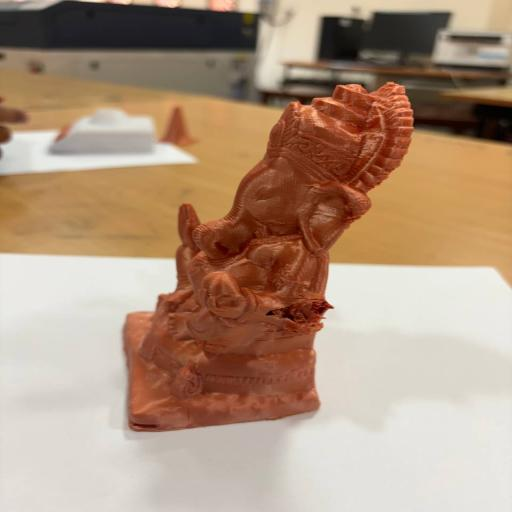cracks: (258, 280, 332, 336), (131, 416, 164, 434)
